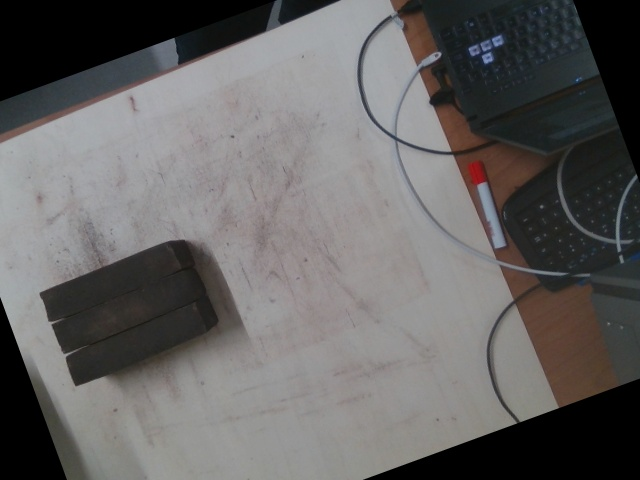brick-side: (42, 241, 179, 322), (67, 304, 204, 385), (57, 271, 193, 352)
